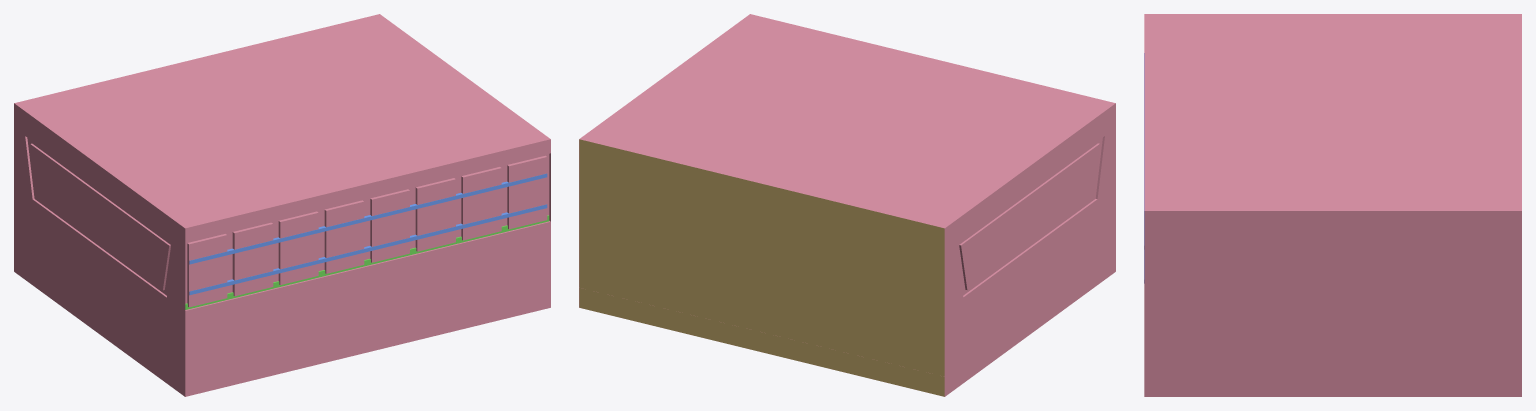
The model's file is Chiva_adentro.fbx.
3 views of the same model, side by side, from view 1: azimuth 30°, elevation 25°; view 2: azimuth 150°, elevation 25°; view 3: azimuth 270°, elevation 25° (orthographic). The views are drawn at different scales.
Visible parts, largest first — view 1: cuerpo, barra4, barra3, sillones1; view 2: cuerpo, pared; view 3: cuerpo.
Part boxes in pixels (<box>): cuerpo: <box>14,14,550,396</box>; barra4: <box>189,204,547,295</box>; barra3: <box>189,173,547,264</box>; sillones1: <box>185,215,549,309</box>; cuerpo: <box>579,14,1115,396</box>; pared: <box>579,139,944,396</box>; cuerpo: <box>1144,14,1521,396</box>.
Size of the model in its own units: 4.77 by 2.1 by 3.87.
